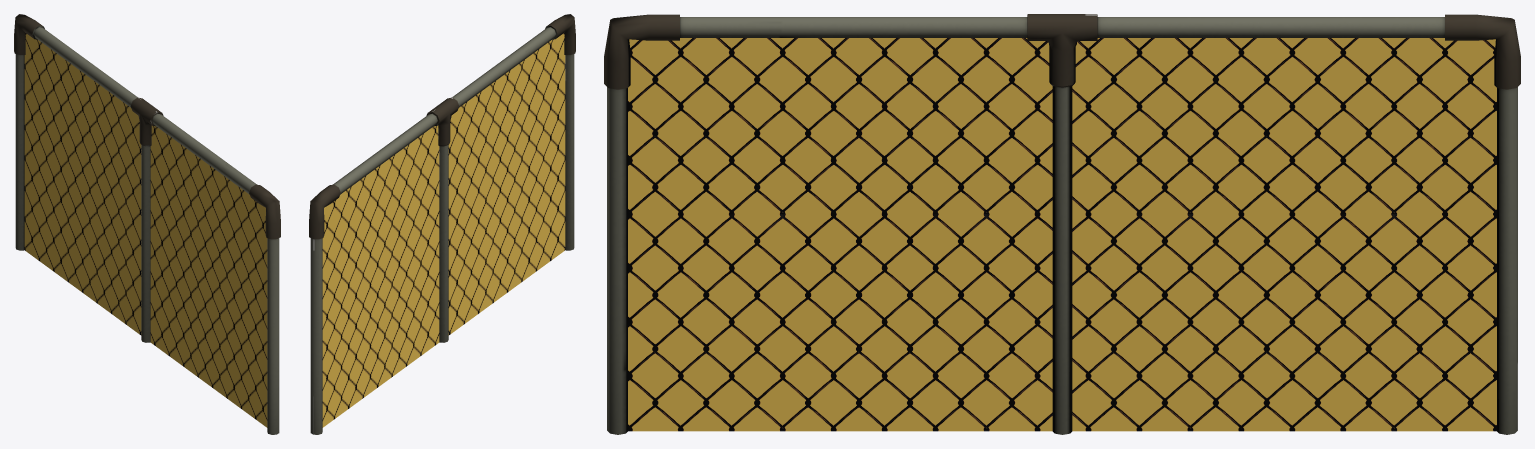
The model's file is fence 1.fbx.
The picture shows the model from 3 angles, left to right: view 1: azimuth 30°, elevation 25°; view 2: azimuth 150°, elevation 25°; view 3: azimuth 270°, elevation 25°; orthographic projection. The views are drawn at different scales.
Parts seen in each view (by area): view 1: fence; view 2: fence; view 3: fence.
Part boxes in pixels (bbox=[...]): fence: bbox=[14, 14, 280, 434]; fence: bbox=[309, 14, 575, 434]; fence: bbox=[604, 14, 1520, 434].
Bounding box in the file's own units: 25.77 × 413 × 825.
